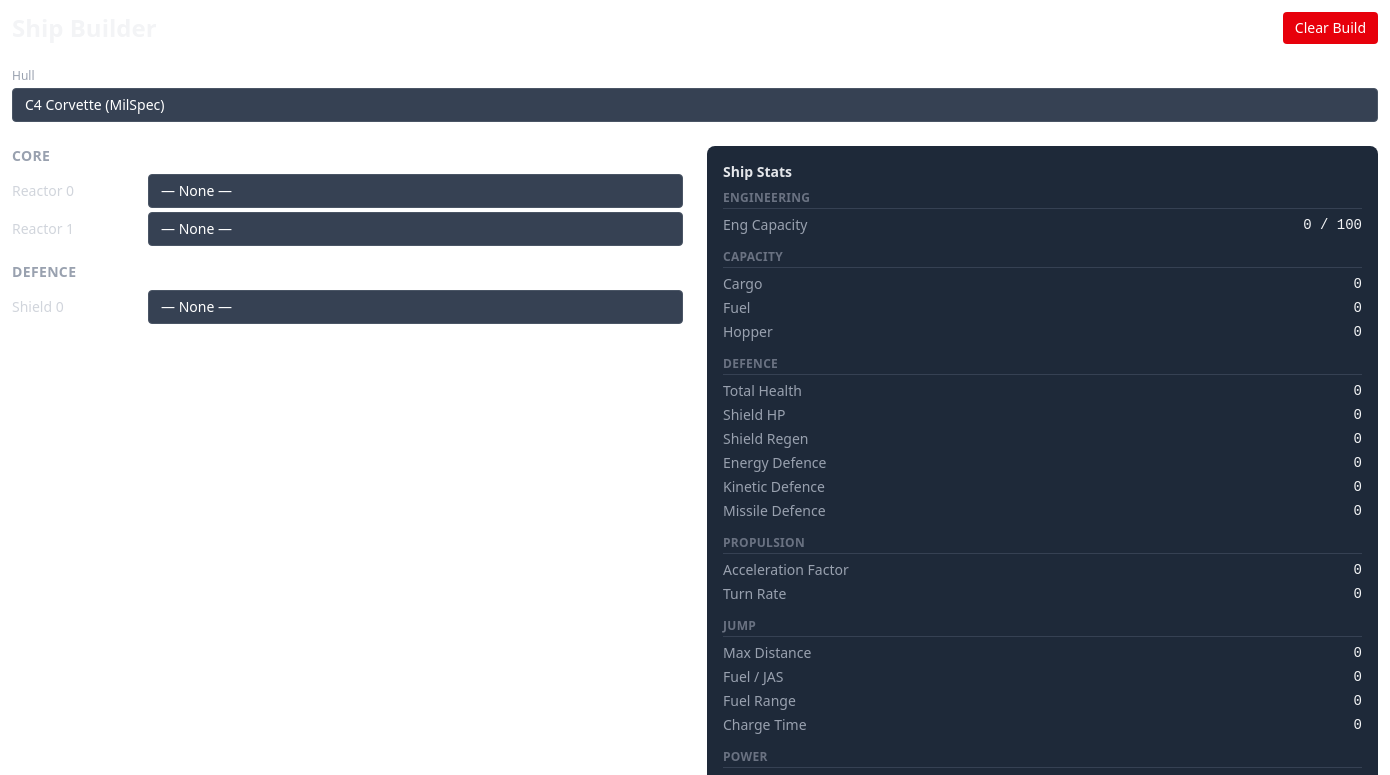
Test: ShipBuilder integration › clear build: resets to initial state
Expected: the dropdown below "Hull" is shown, [12, 88, 1378, 122]
Click Clear Build
Click the button "Clear Build": (1330, 28) [1283, 12, 1378, 44]
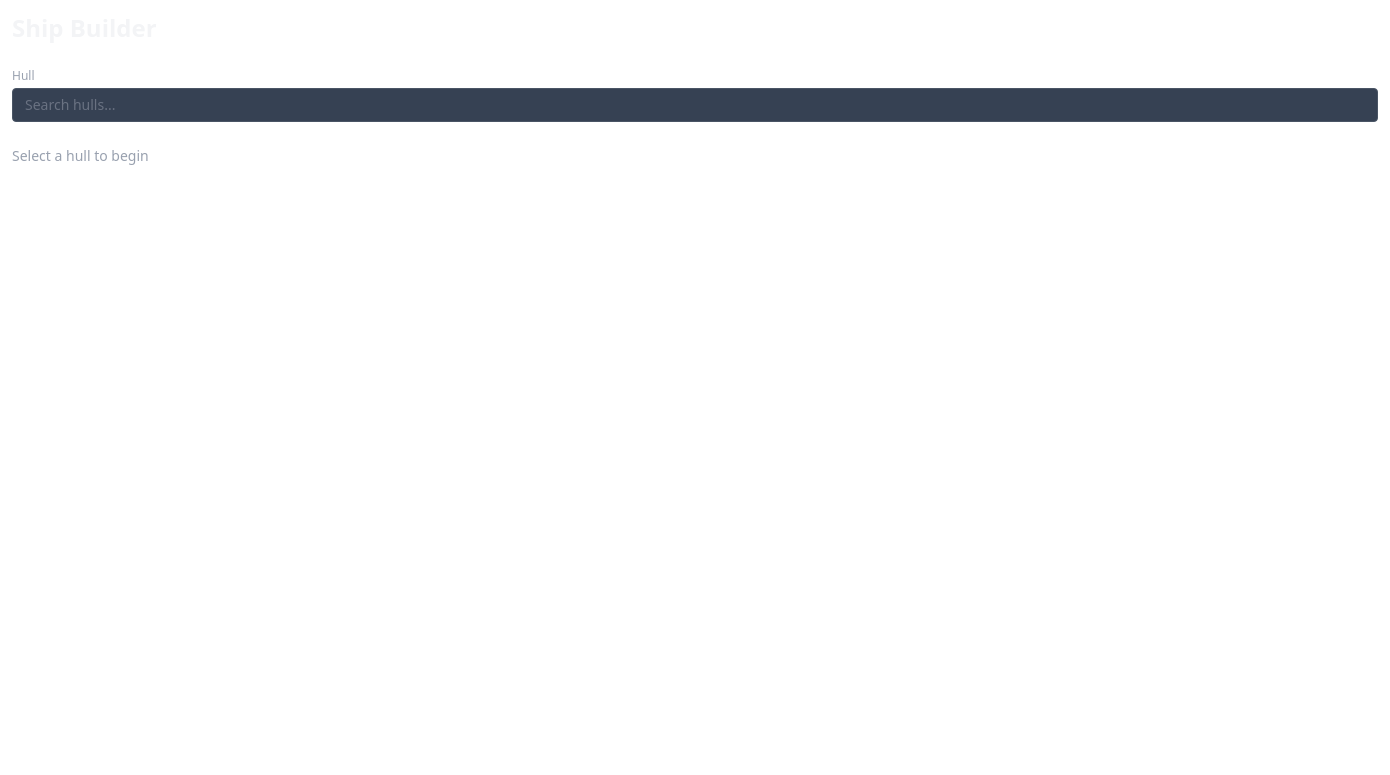
Expected: the text "Select a hull to begin" is shown, [12, 146, 149, 165]
Expected: the button "Clear Build" is gone
